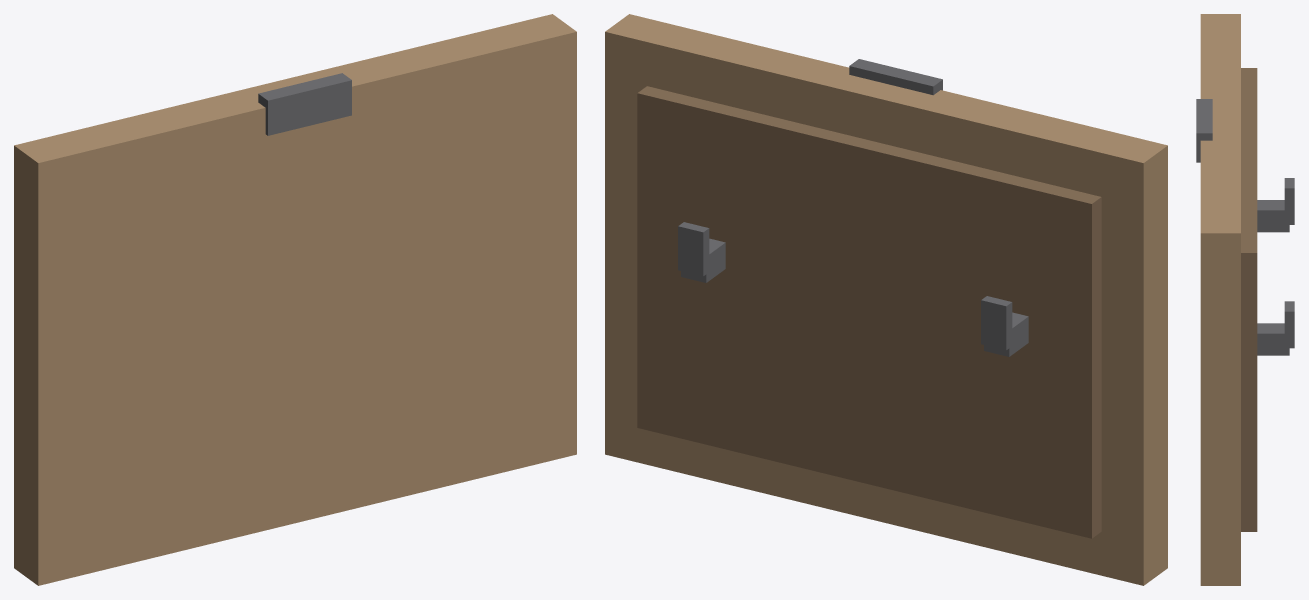
File: prop-weapon-plaque.fbx
The picture shows the model from 3 angles, left to right: view 1: azimuth 30°, elevation 25°; view 2: azimuth 150°, elevation 25°; view 3: azimuth 270°, elevation 25°; orthographic projection. The views are drawn at different scales.
Visible parts, largest first — view 1: prop-weapon-plaque; view 2: prop-weapon-plaque; view 3: prop-weapon-plaque.
Boxes of the visible parts, x1,y1,x2,y2 form: prop-weapon-plaque: [14, 14, 576, 585]; prop-weapon-plaque: [605, 14, 1167, 585]; prop-weapon-plaque: [1196, 14, 1294, 585].
Size of the model in its own units: 0.64 by 0.49 by 0.121.
